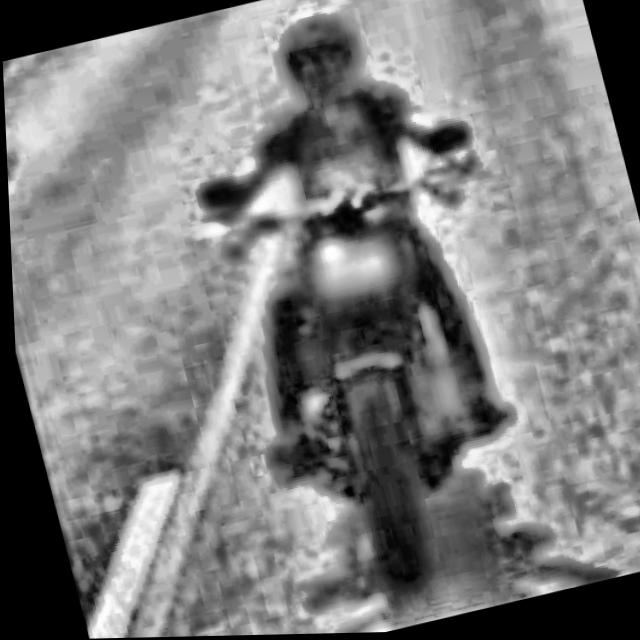motorcycle: (177, 108, 571, 602)
